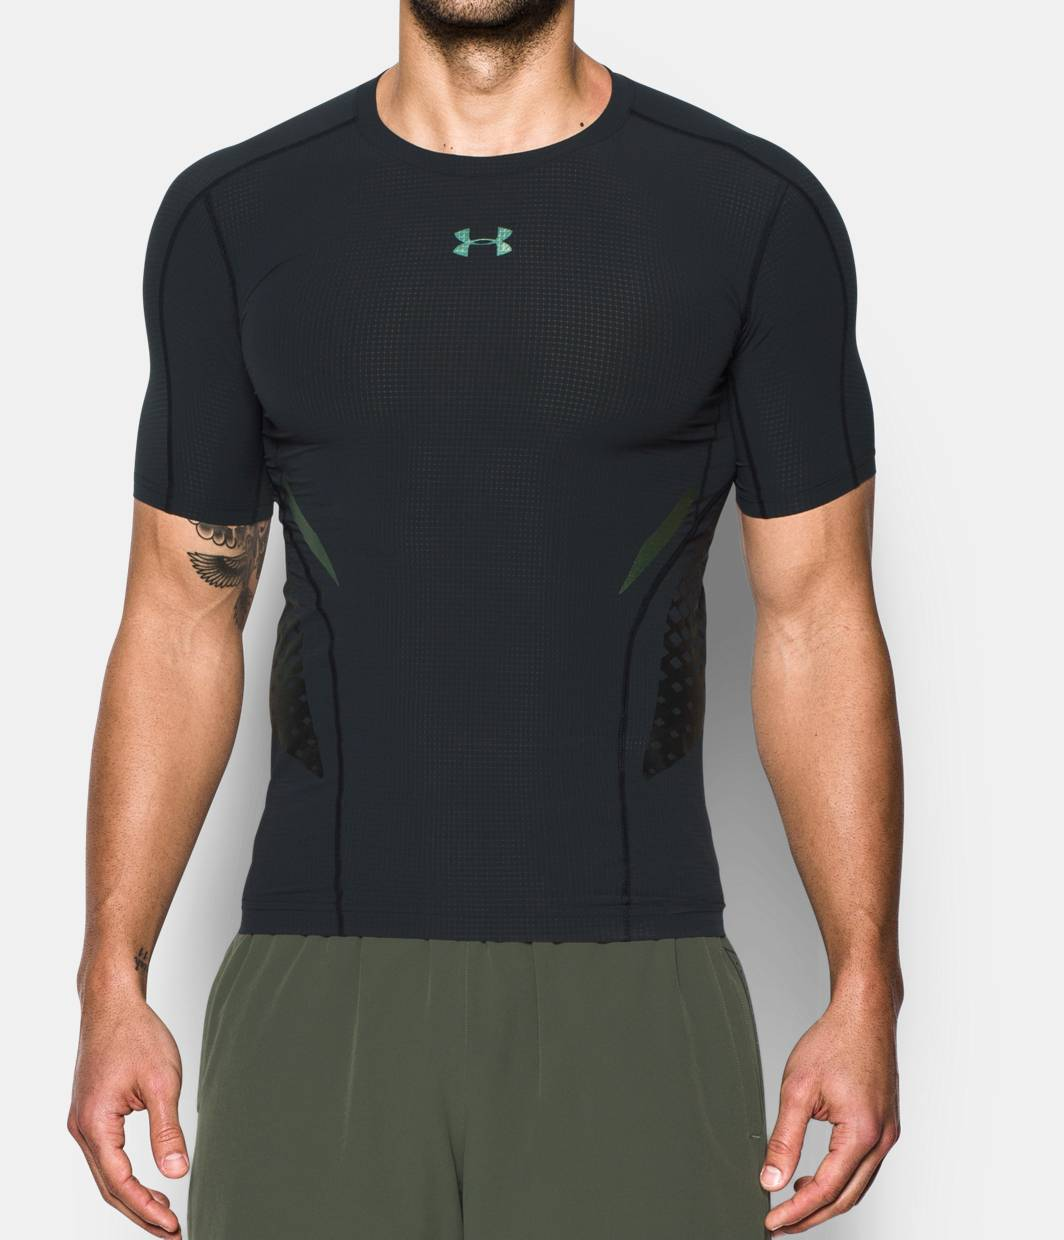T-Shirt: (103, 65, 931, 969)
